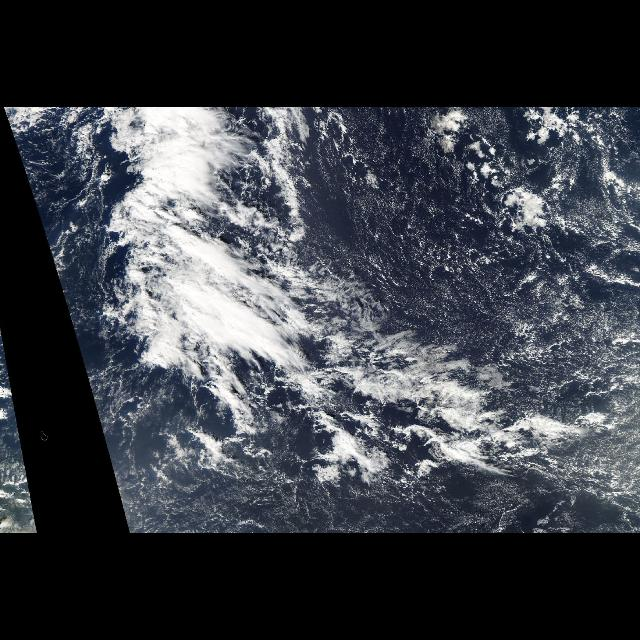Gravel: (85, 111, 639, 531)
